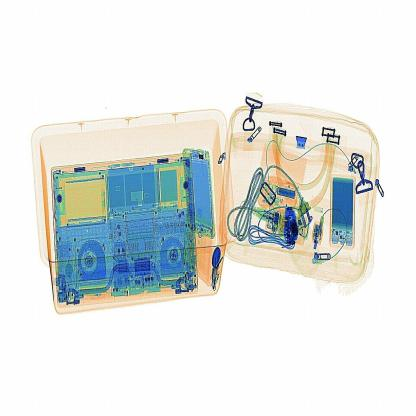scissors: (286, 204, 302, 251)
